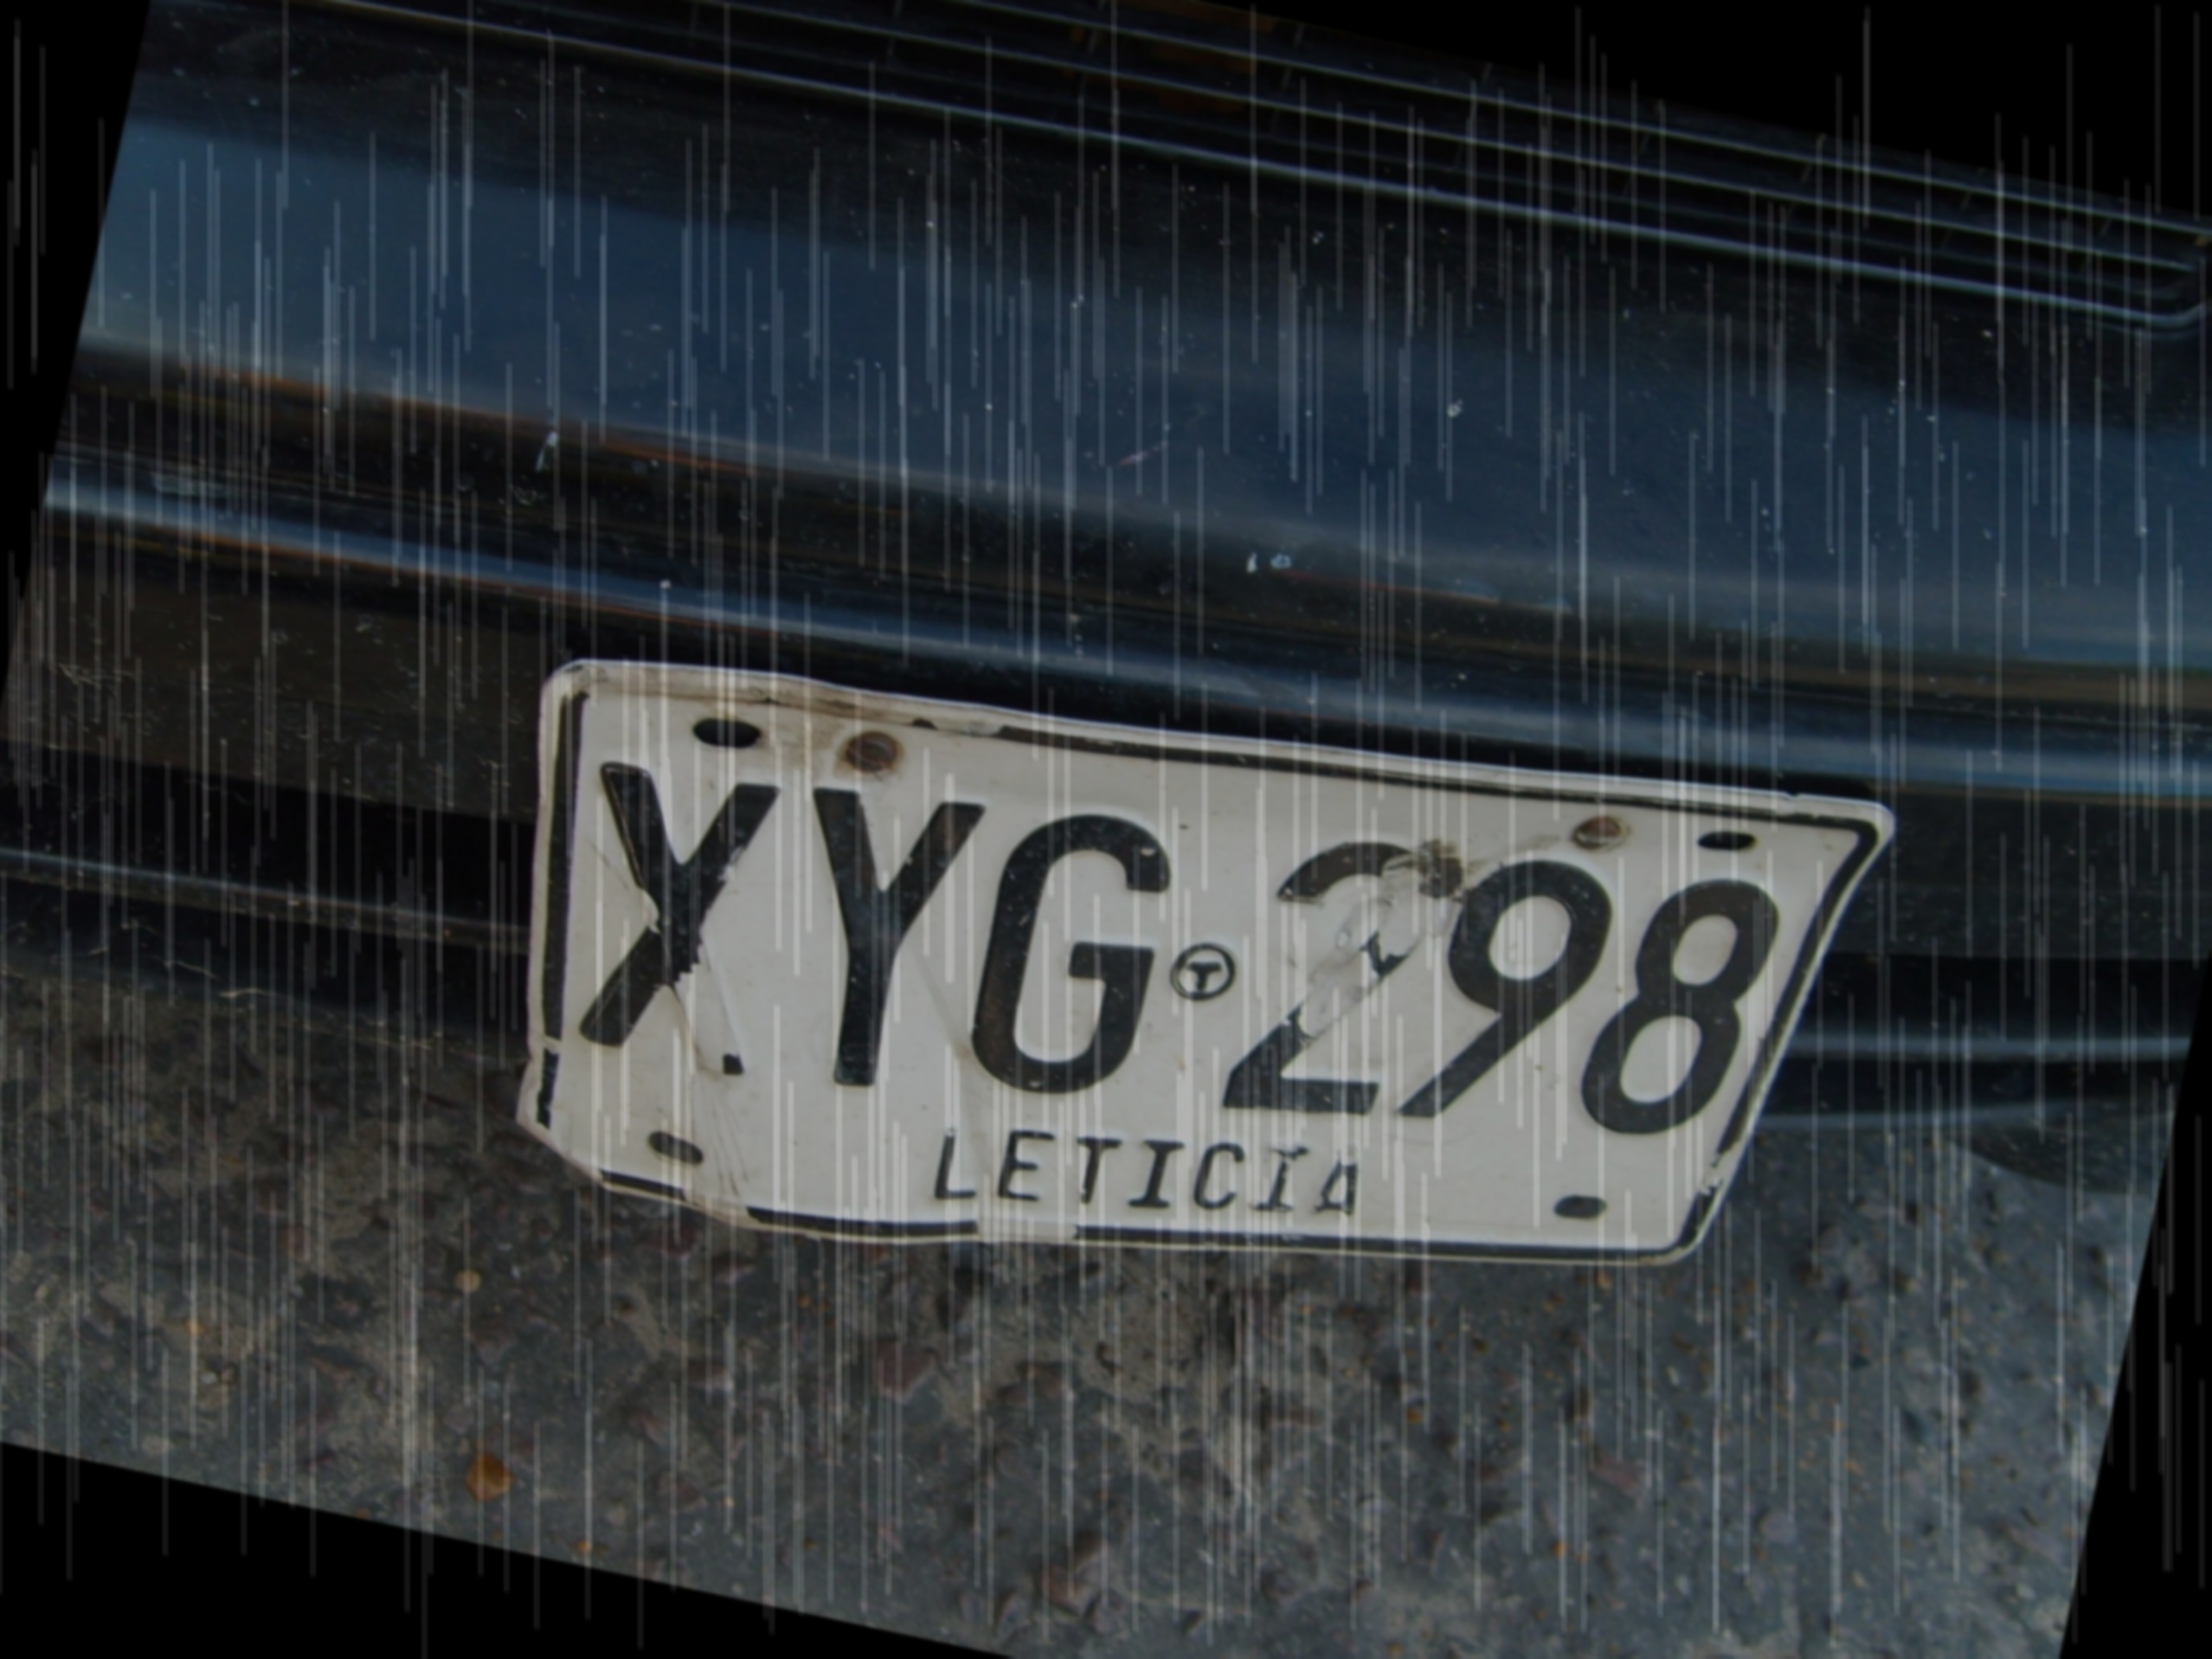placas: (429, 507, 1909, 1452)
